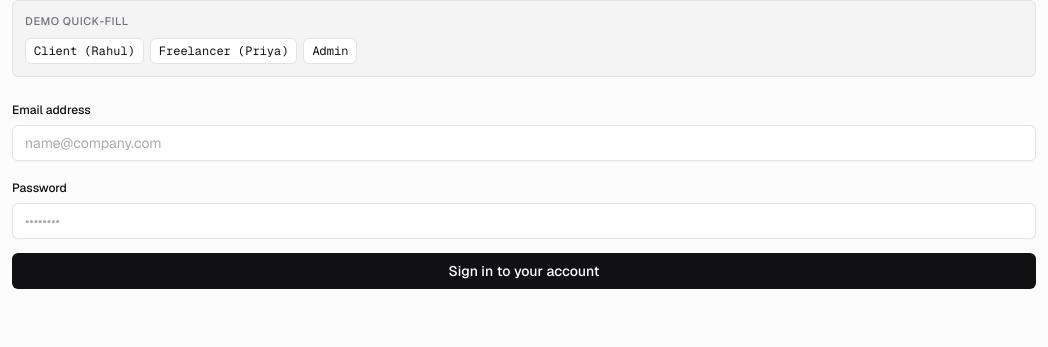
Test: LoginForm validation and interactions › displays inline validation errors when submitting empty form
Click the button "Sign in to your account" at (524, 270), box x1=12 y1=252 x2=1036 y2=288
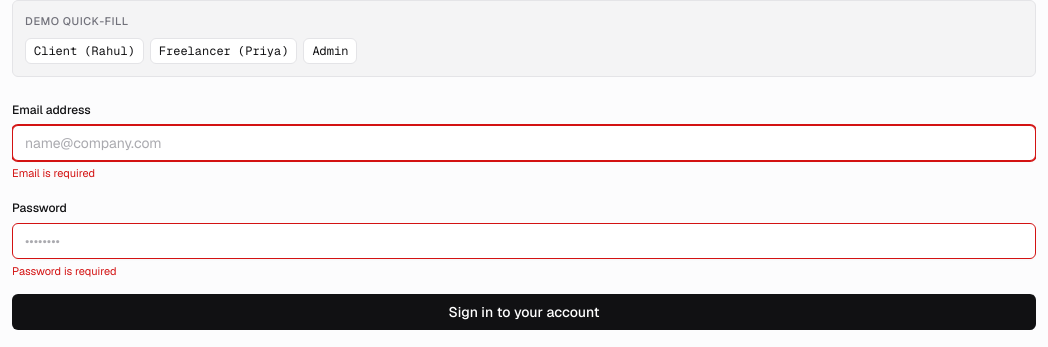
Check: the text "Email is required" is shown, box x1=12 y1=166 x2=95 y2=180
Check: the text "Password is required" is shown, box x1=12 y1=264 x2=116 y2=278
